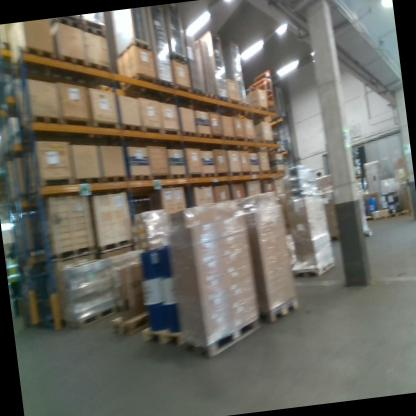pallet: (179, 315, 264, 366), (59, 305, 120, 333), (11, 48, 57, 83), (107, 308, 153, 339), (143, 321, 188, 349), (54, 48, 88, 85), (260, 299, 303, 326), (292, 255, 338, 280), (124, 72, 159, 102), (49, 242, 100, 261), (85, 56, 115, 87), (95, 235, 135, 254), (151, 72, 174, 102), (117, 39, 152, 56), (172, 81, 191, 109), (204, 86, 221, 112), (385, 205, 411, 222), (167, 50, 188, 70), (189, 85, 207, 106), (128, 170, 151, 185), (216, 93, 231, 112)
